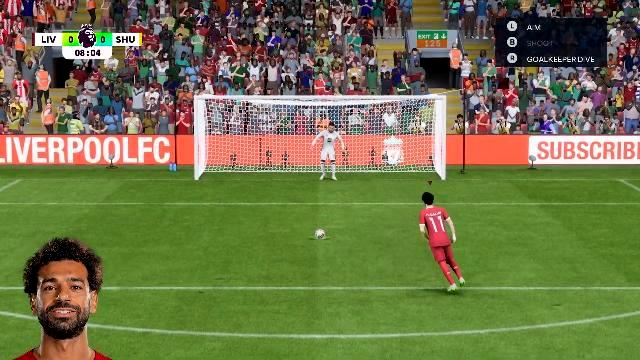bottom-left: (201, 142, 285, 180)
bottom-right: (359, 142, 438, 182)
center-down: (286, 142, 358, 180)
center-up: (286, 102, 358, 140)
circle: (309, 234, 331, 238)
football: (313, 227, 325, 237)
goalkeeper: (312, 124, 346, 182)
player: (416, 186, 469, 292)
top-left: (201, 102, 285, 142)
top-right: (358, 102, 438, 142)
